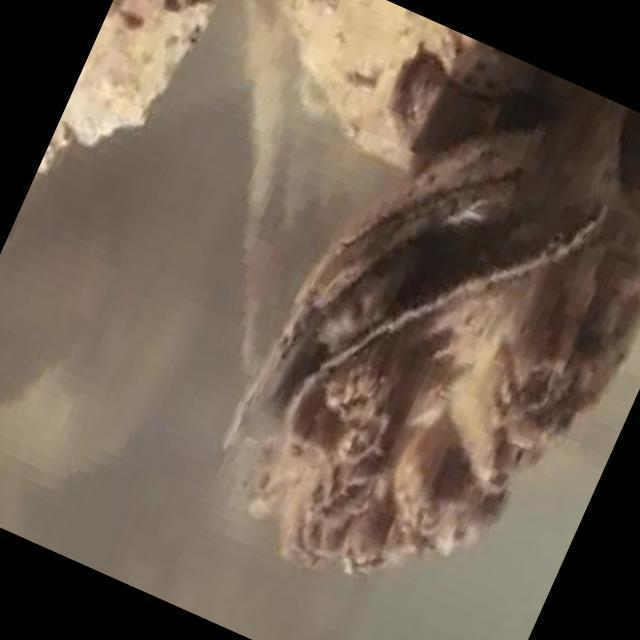Oyster- Indeterminate: (370, 45, 543, 196)
